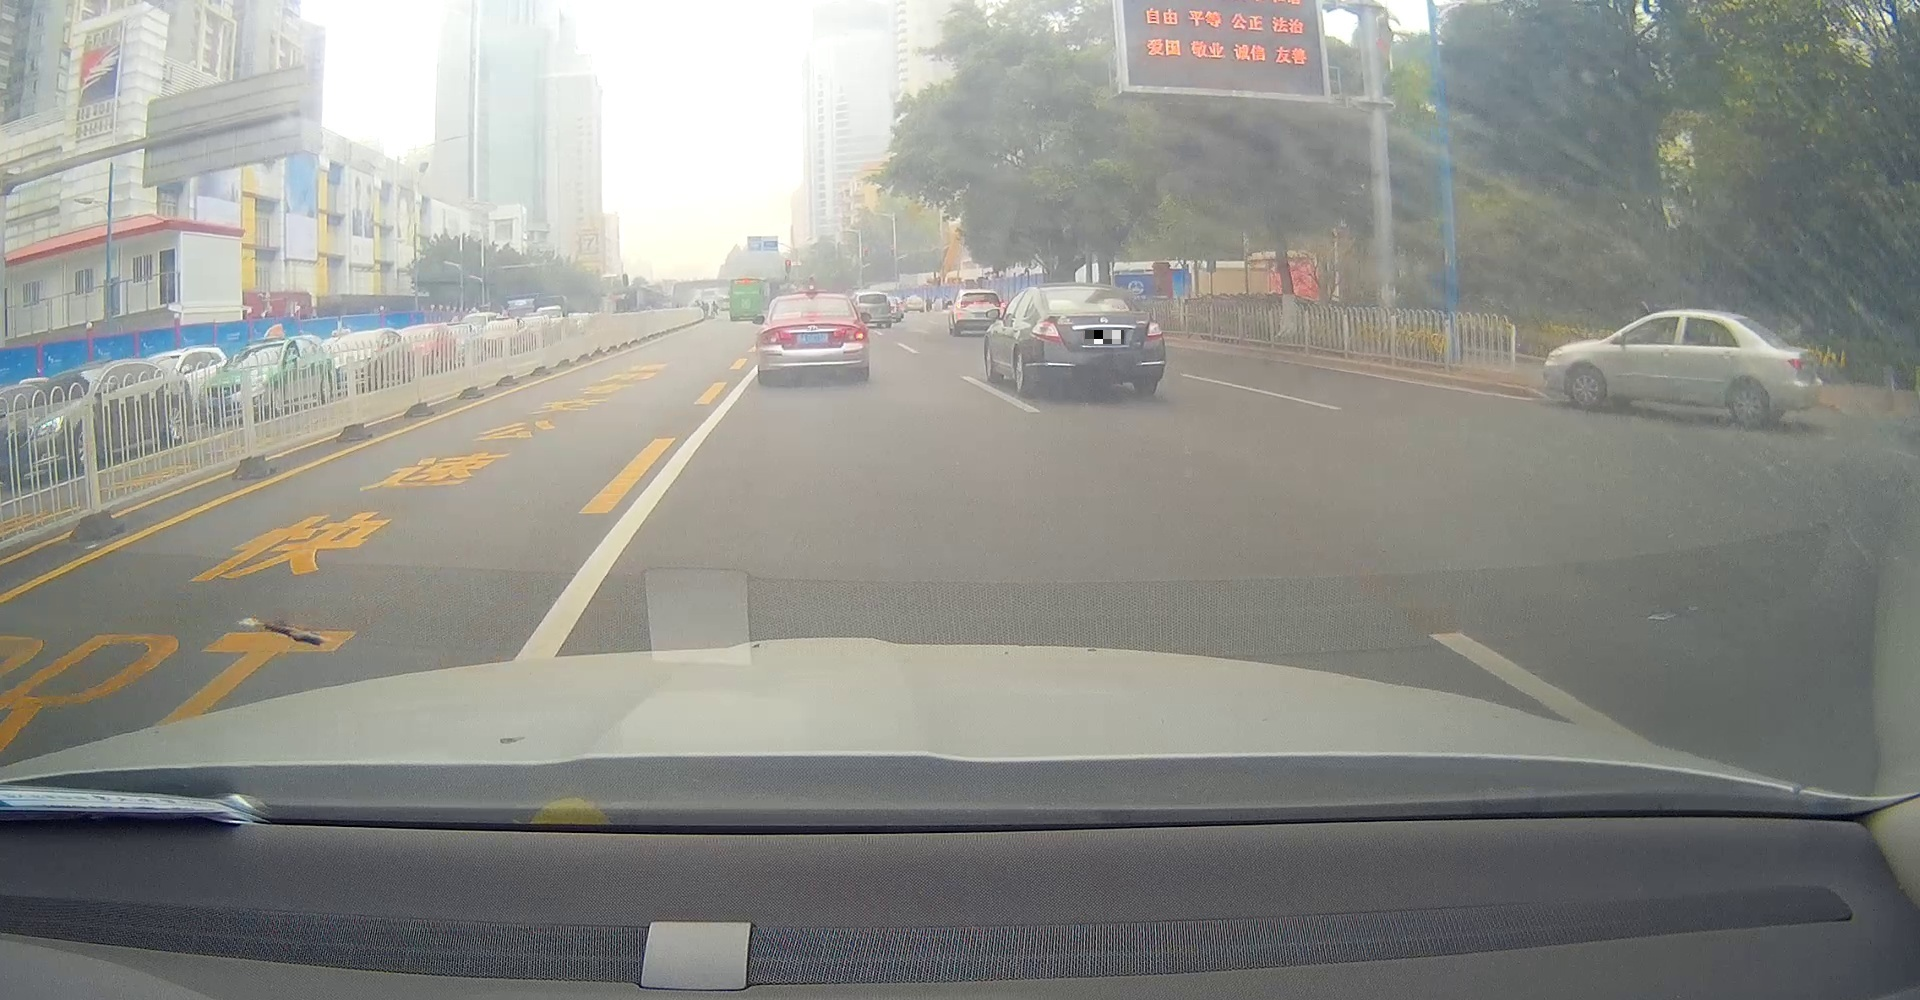L_light: (1030, 321, 1065, 344), (761, 330, 794, 345)
R_light: (834, 327, 867, 341), (1144, 320, 1163, 341)
T_light: (1090, 308, 1109, 312), (805, 313, 822, 317)
day-no: (1029, 282, 1166, 398)
day-right: (756, 293, 870, 385)
plate_1: (1084, 330, 1124, 344)
